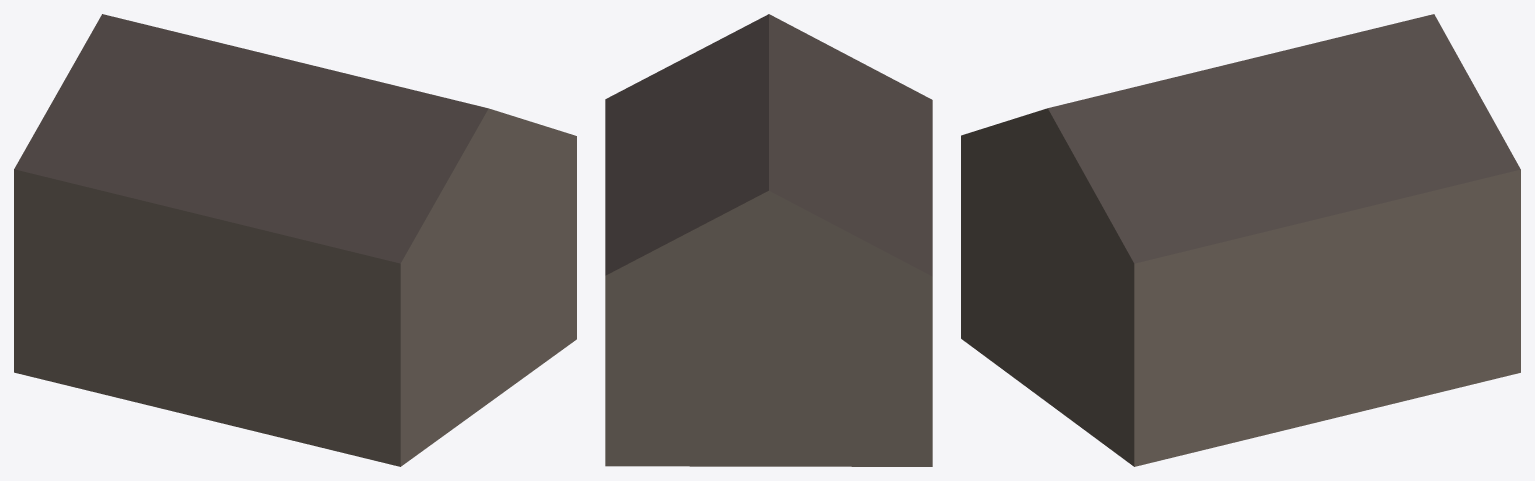
The picture shows the model from 3 angles, left to right: view 1: azimuth 30°, elevation 25°; view 2: azimuth 150°, elevation 25°; view 3: azimuth 270°, elevation 25°; orthographic projection. The views are drawn at different scales.
Parts seen in each view (by area): view 1: HP-w859088508; view 2: HP-w859088508; view 3: HP-w859088508.
Part boxes in pixels (box(x1,y1,x2,y2)): HP-w859088508: box(14, 14, 576, 466); HP-w859088508: box(605, 14, 932, 466); HP-w859088508: box(961, 14, 1520, 466).
Bounding box in the file's own units: 21.12 × 13.05 × 22.46.
